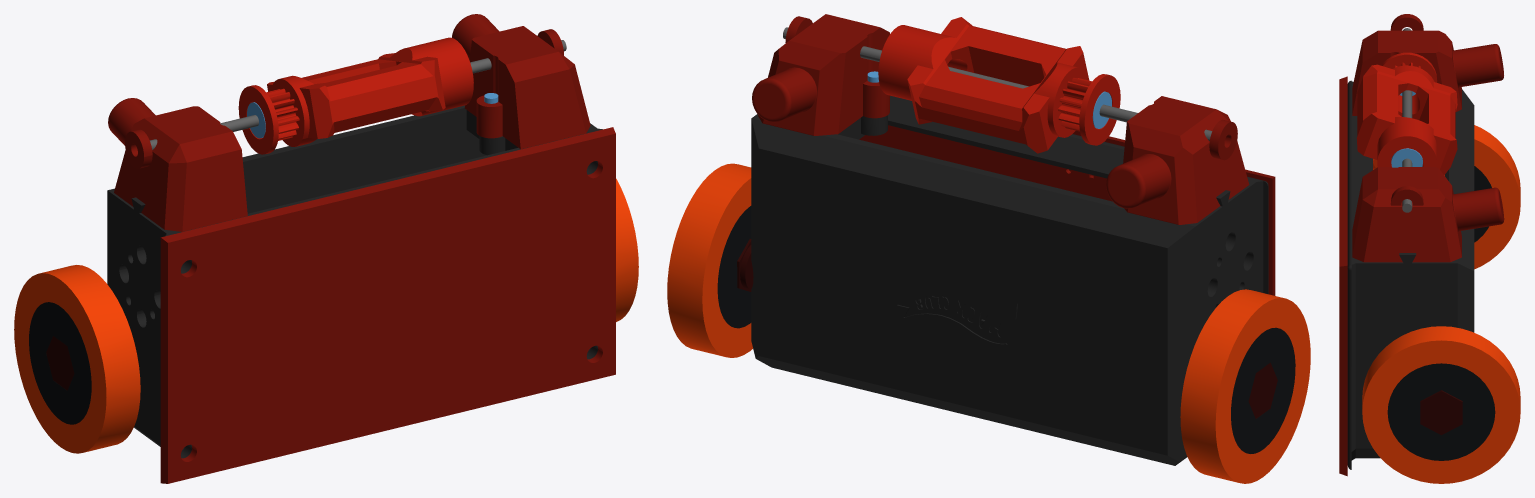
The model's file is FinalAssembly1.fbx.
3 renders of one model, left to right at view 1: azimuth 30°, elevation 25°; view 2: azimuth 150°, elevation 25°; view 3: azimuth 270°, elevation 25°, orthographic. The views are drawn at different scales.
Parts seen in each view (by area): view 1: empty_48, empty_32, empty_43, empty_12, empty_56, empty_19, empty_28, empty_51, empty_16, empty_2, empty_44; view 2: empty_32, empty_43, empty_12, empty_56, empty_19, empty_51, empty_48, empty_28, empty_24, empty_44, empty_16, empty_2 (+1 smaller); view 3: empty_32, empty_51, empty_19, empty_43, empty_24, empty_56, empty_12, empty_48, empty_13, empty_44, empty_46, empty_9 (+2 smaller).
Boxes of the visible parts, x1,y1,x2,y2 form: empty_48: (160,127,615,483); empty_32: (107,105,602,458); empty_43: (238,37,473,154); empty_12: (14,265,140,453); empty_56: (108,98,247,231); empty_19: (452,14,590,149); empty_28: (29,302,91,424); empty_51: (616,178,638,321); empty_16: (46,336,74,390); empty_2: (125,129,152,168); empty_44: (150,40,566,149); empty_32: (751,96,1268,465); empty_43: (878,17,1120,153); empty_12: (1180,289,1310,483); empty_56: (1106,96,1249,224); empty_19: (752,14,890,135); empty_51: (667,163,752,357); empty_48: (859,125,1275,295); empty_28: (1231,327,1295,453); empty_24: (717,206,751,328); empty_44: (783,27,1212,140); empty_16: (1248,362,1277,418); empty_2: (1209,119,1237,160); empty_32: (1347,80,1474,469); empty_51: (1362,326,1520,483); empty_19: (1352,167,1504,262); empty_43: (1356,52,1457,174); empty_24: (1387,363,1495,460); empty_56: (1352,30,1503,115); empty_12: (1474,125,1520,269); empty_48: (1339,76,1347,476); empty_13: (1420,390,1462,435); empty_44: (1402,28,1412,212); empty_46: (1390,186,1423,205); empty_9: (1391,148,1422,167).
Bounding box in the file's own units: 159 × 97.52 × 54.56.
